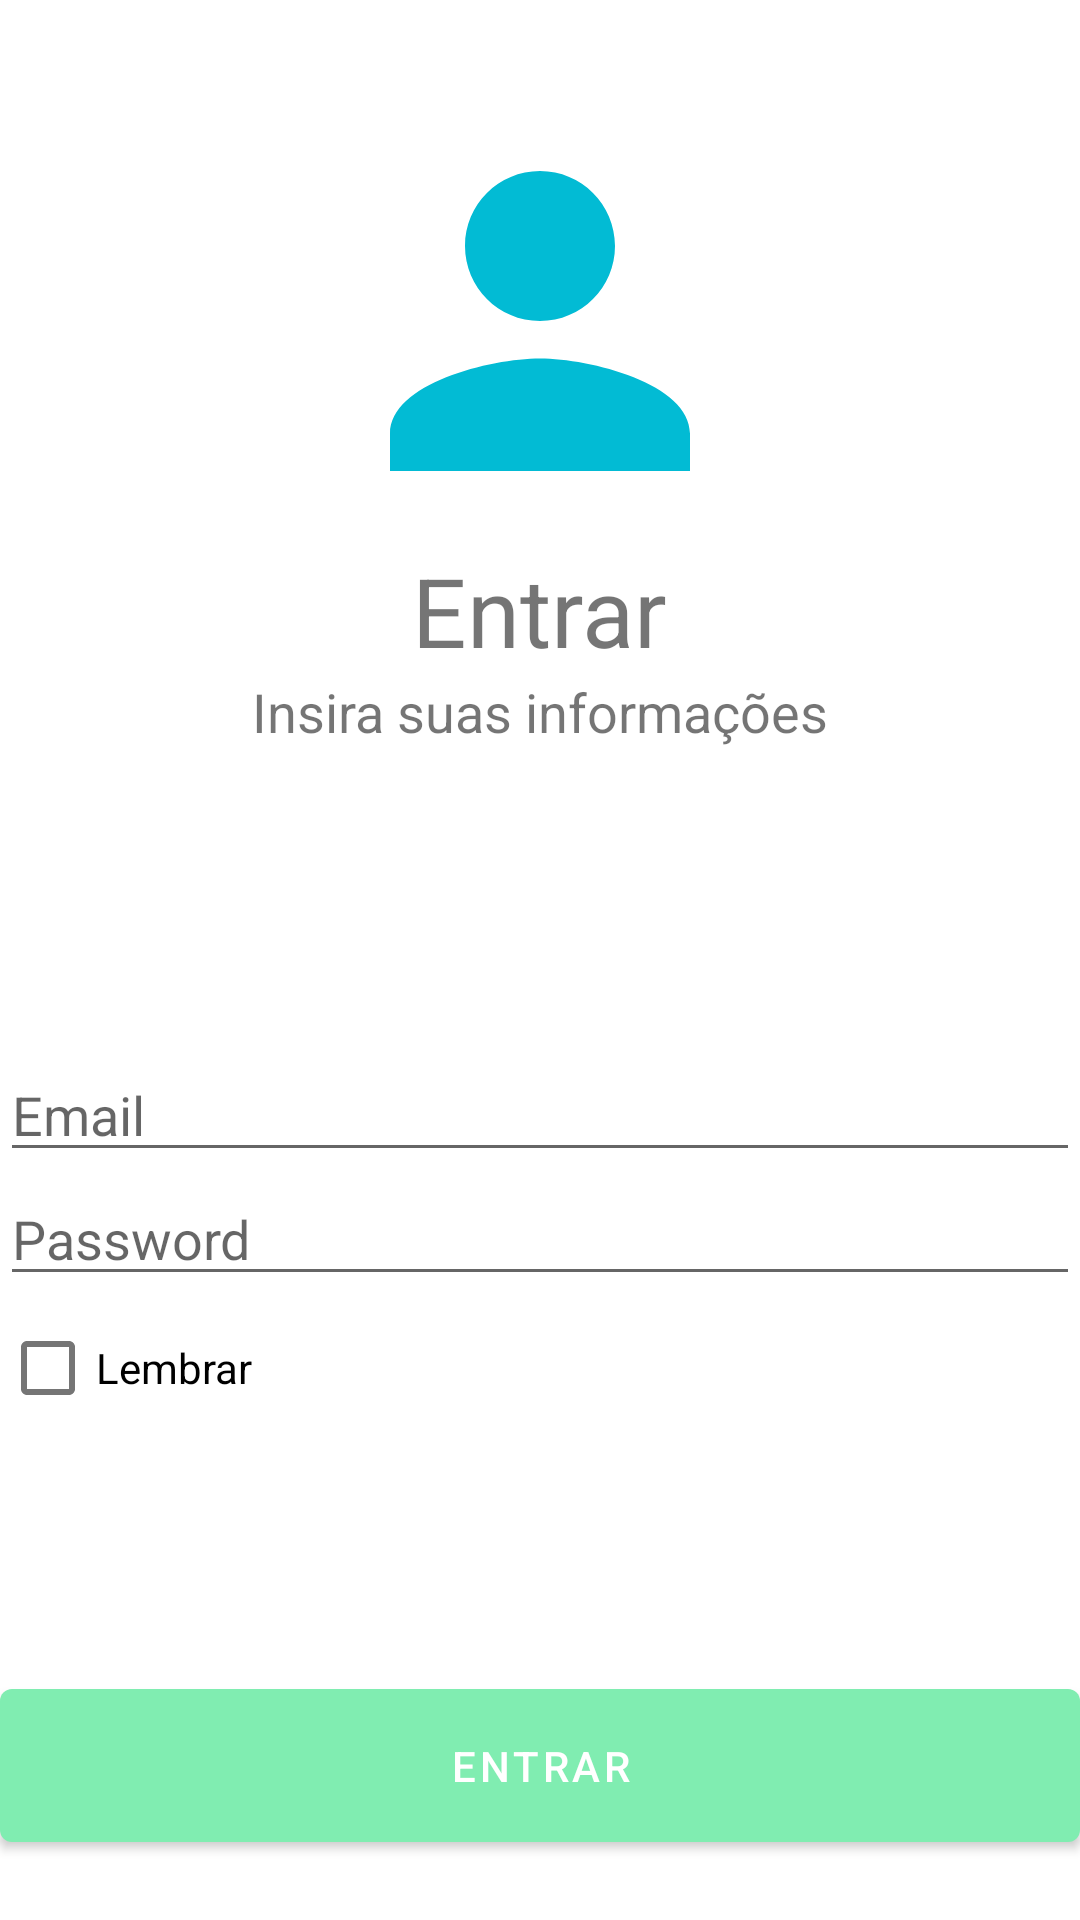

Icons on this 1080 × 1920 Android screen, each with the point to tap as point (x, y):
user: point (540, 321)
